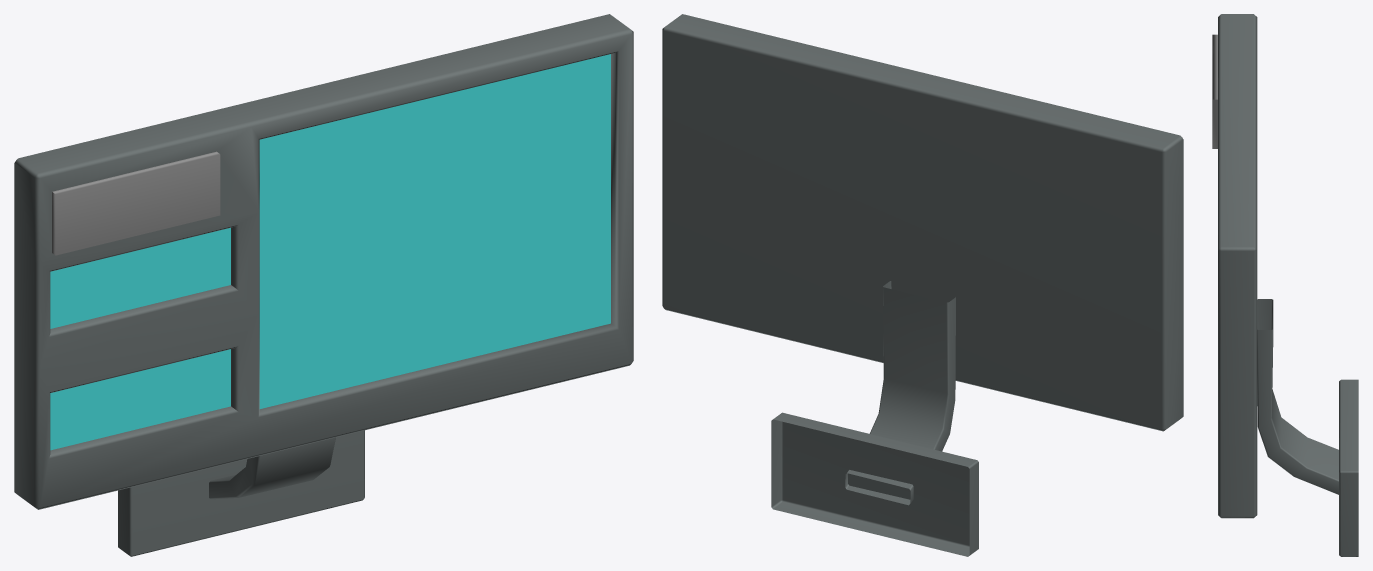
File: Screen_4.fbx
3 views of the same model, side by side, from view 1: azimuth 30°, elevation 25°; view 2: azimuth 150°, elevation 25°; view 3: azimuth 270°, elevation 25° (orthographic). The views are drawn at different scales.
Parts seen in each view (by area): view 1: Screen_4; view 2: Screen_4; view 3: Screen_4.
Boxes of the visible parts, x1,y1,x2,y2 form: Screen_4: (14,14,633,556); Screen_4: (662,14,1183,556); Screen_4: (1212,14,1358,556).
Size of the model in its own units: 2.54 by 1.94 by 0.6679.
